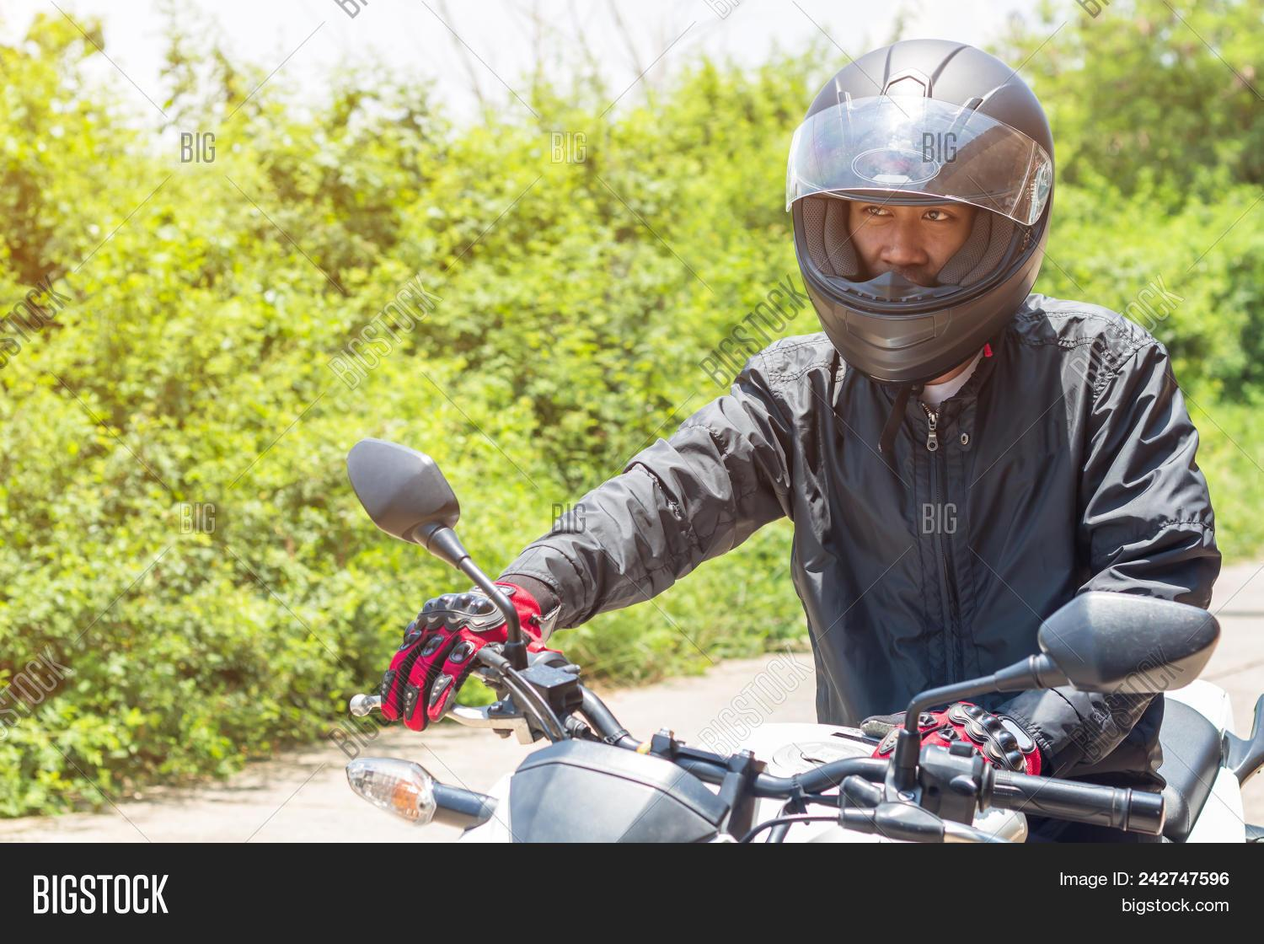Helmet: (787, 39, 1052, 382)
